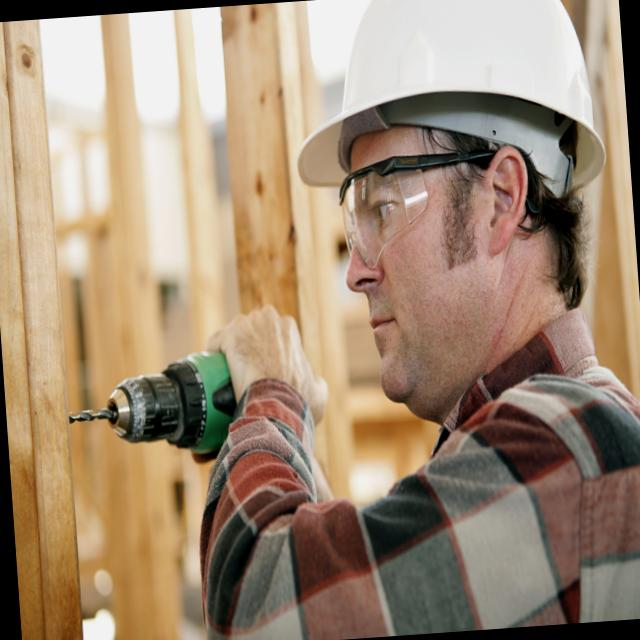goggles: (324, 137, 507, 276)
helmet: (280, 0, 611, 218)
no-vest: (235, 331, 640, 640)
